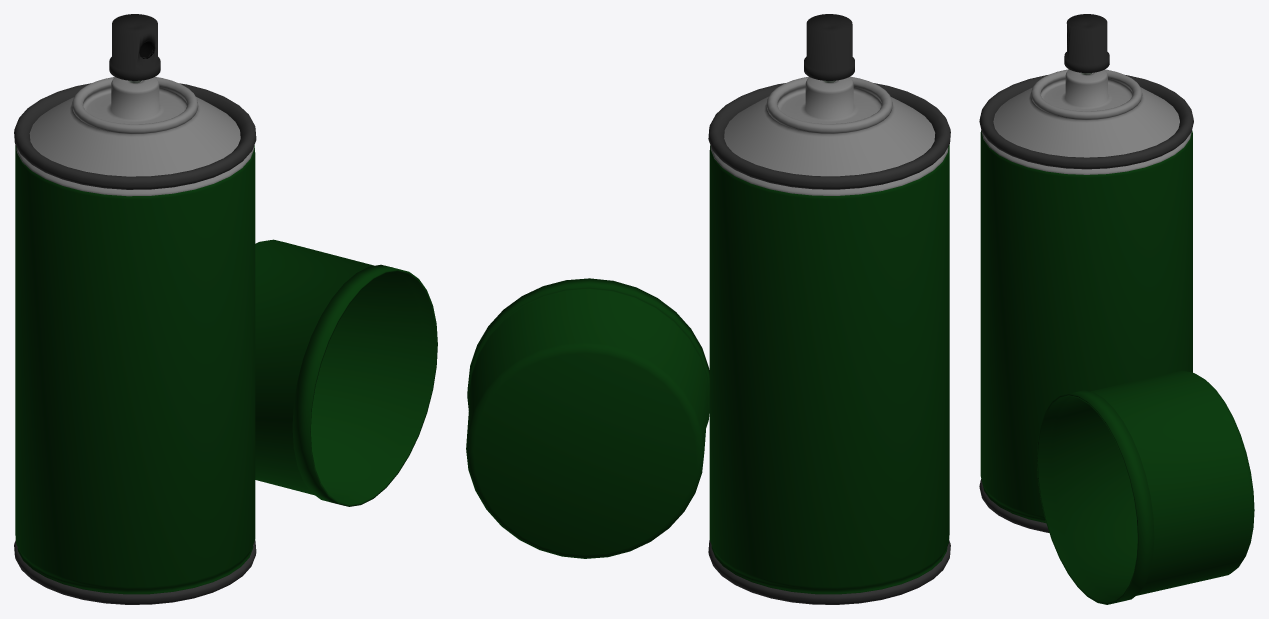
File: spray.gltf
3 views of the same model, side by side, from view 1: azimuth 30°, elevation 25°; view 2: azimuth 150°, elevation 25°; view 3: azimuth 270°, elevation 25° (orthographic). The views are drawn at different scales.
Visible parts, largest first — view 1: can, cap, cantop, rings, nozle; view 2: can, cap, cantop, rings, nozle; view 3: can, cap, cantop, rings, nozle.
Boxes of the visible parts, bbox=[...] form: can: bbox=[15, 145, 255, 594]; cap: bbox=[255, 239, 437, 506]; cantop: bbox=[16, 77, 254, 196]; rings: bbox=[14, 83, 256, 604]; nozle: bbox=[109, 14, 160, 80]; can: bbox=[709, 145, 949, 594]; cap: bbox=[466, 278, 709, 558]; cantop: bbox=[710, 76, 948, 195]; rings: bbox=[708, 83, 950, 604]; nozle: bbox=[804, 14, 854, 80]; can: bbox=[980, 130, 1192, 522]; cap: bbox=[1037, 370, 1254, 604]; cantop: bbox=[981, 69, 1191, 174]; rings: bbox=[979, 75, 1193, 532]; nozle: bbox=[1064, 14, 1109, 72].
Bounding box in the file's own units: 1.88 × 2.19 × 1.16.
